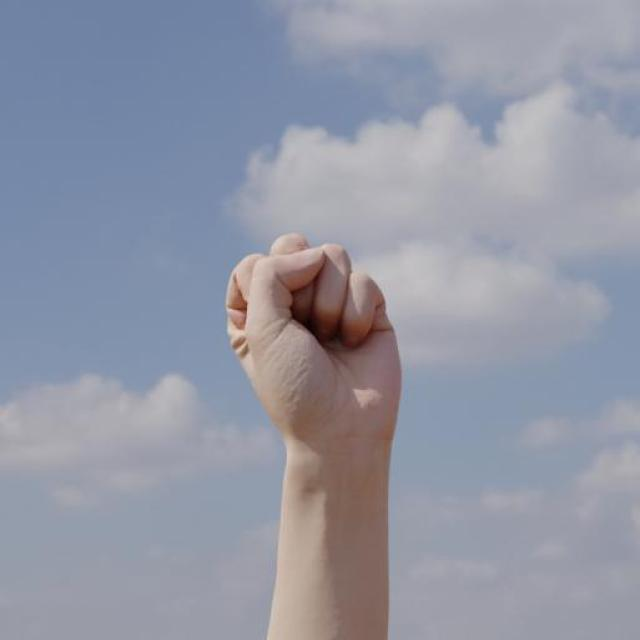S: (219, 228, 406, 457)
